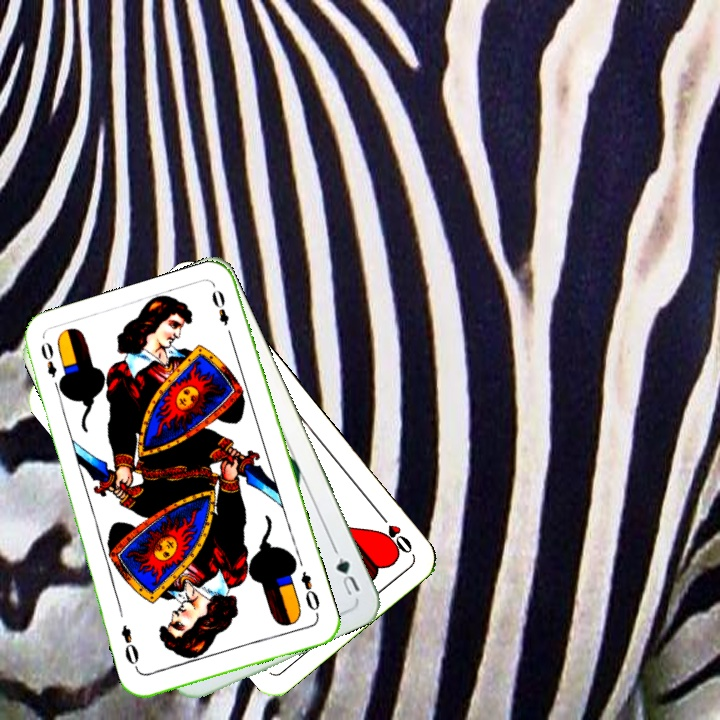EO: (297, 567, 323, 614), (36, 337, 60, 381)
GU: (330, 544, 363, 598)
HO: (373, 507, 416, 556)
